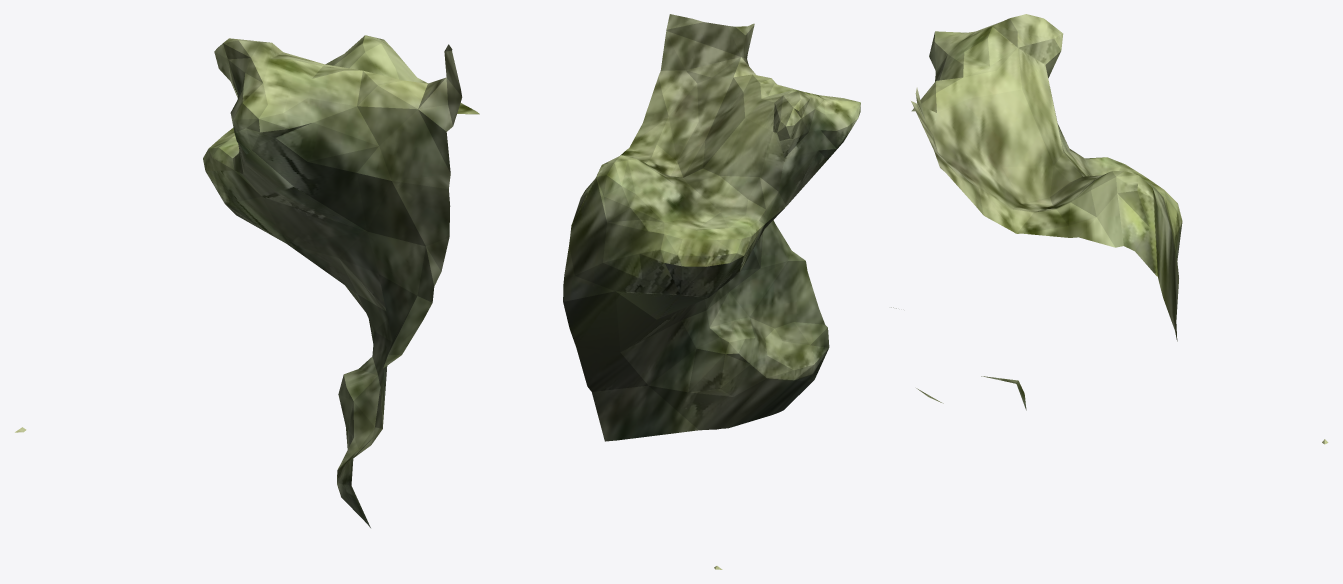
3 views of the same model, side by side, from view 1: azimuth 30°, elevation 25°; view 2: azimuth 150°, elevation 25°; view 3: azimuth 270°, elevation 25° (orthographic). The views are drawn at different scales.
Size of the model in its own units: 1.79 by 2.95 by 2.53.
Materials: 3 (3 with a texture image).
